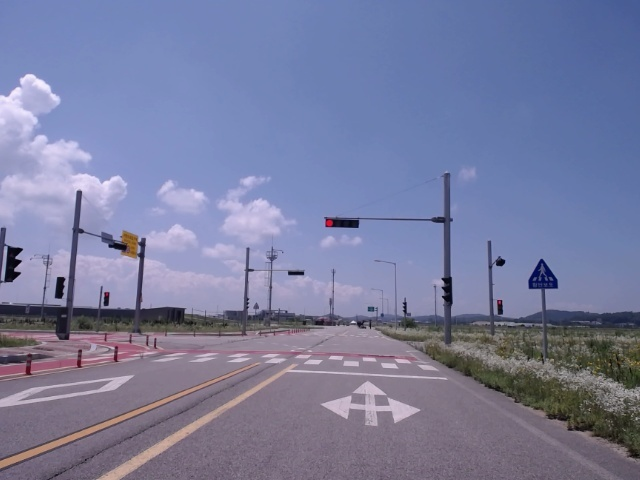red_4: (325, 218, 359, 228)
